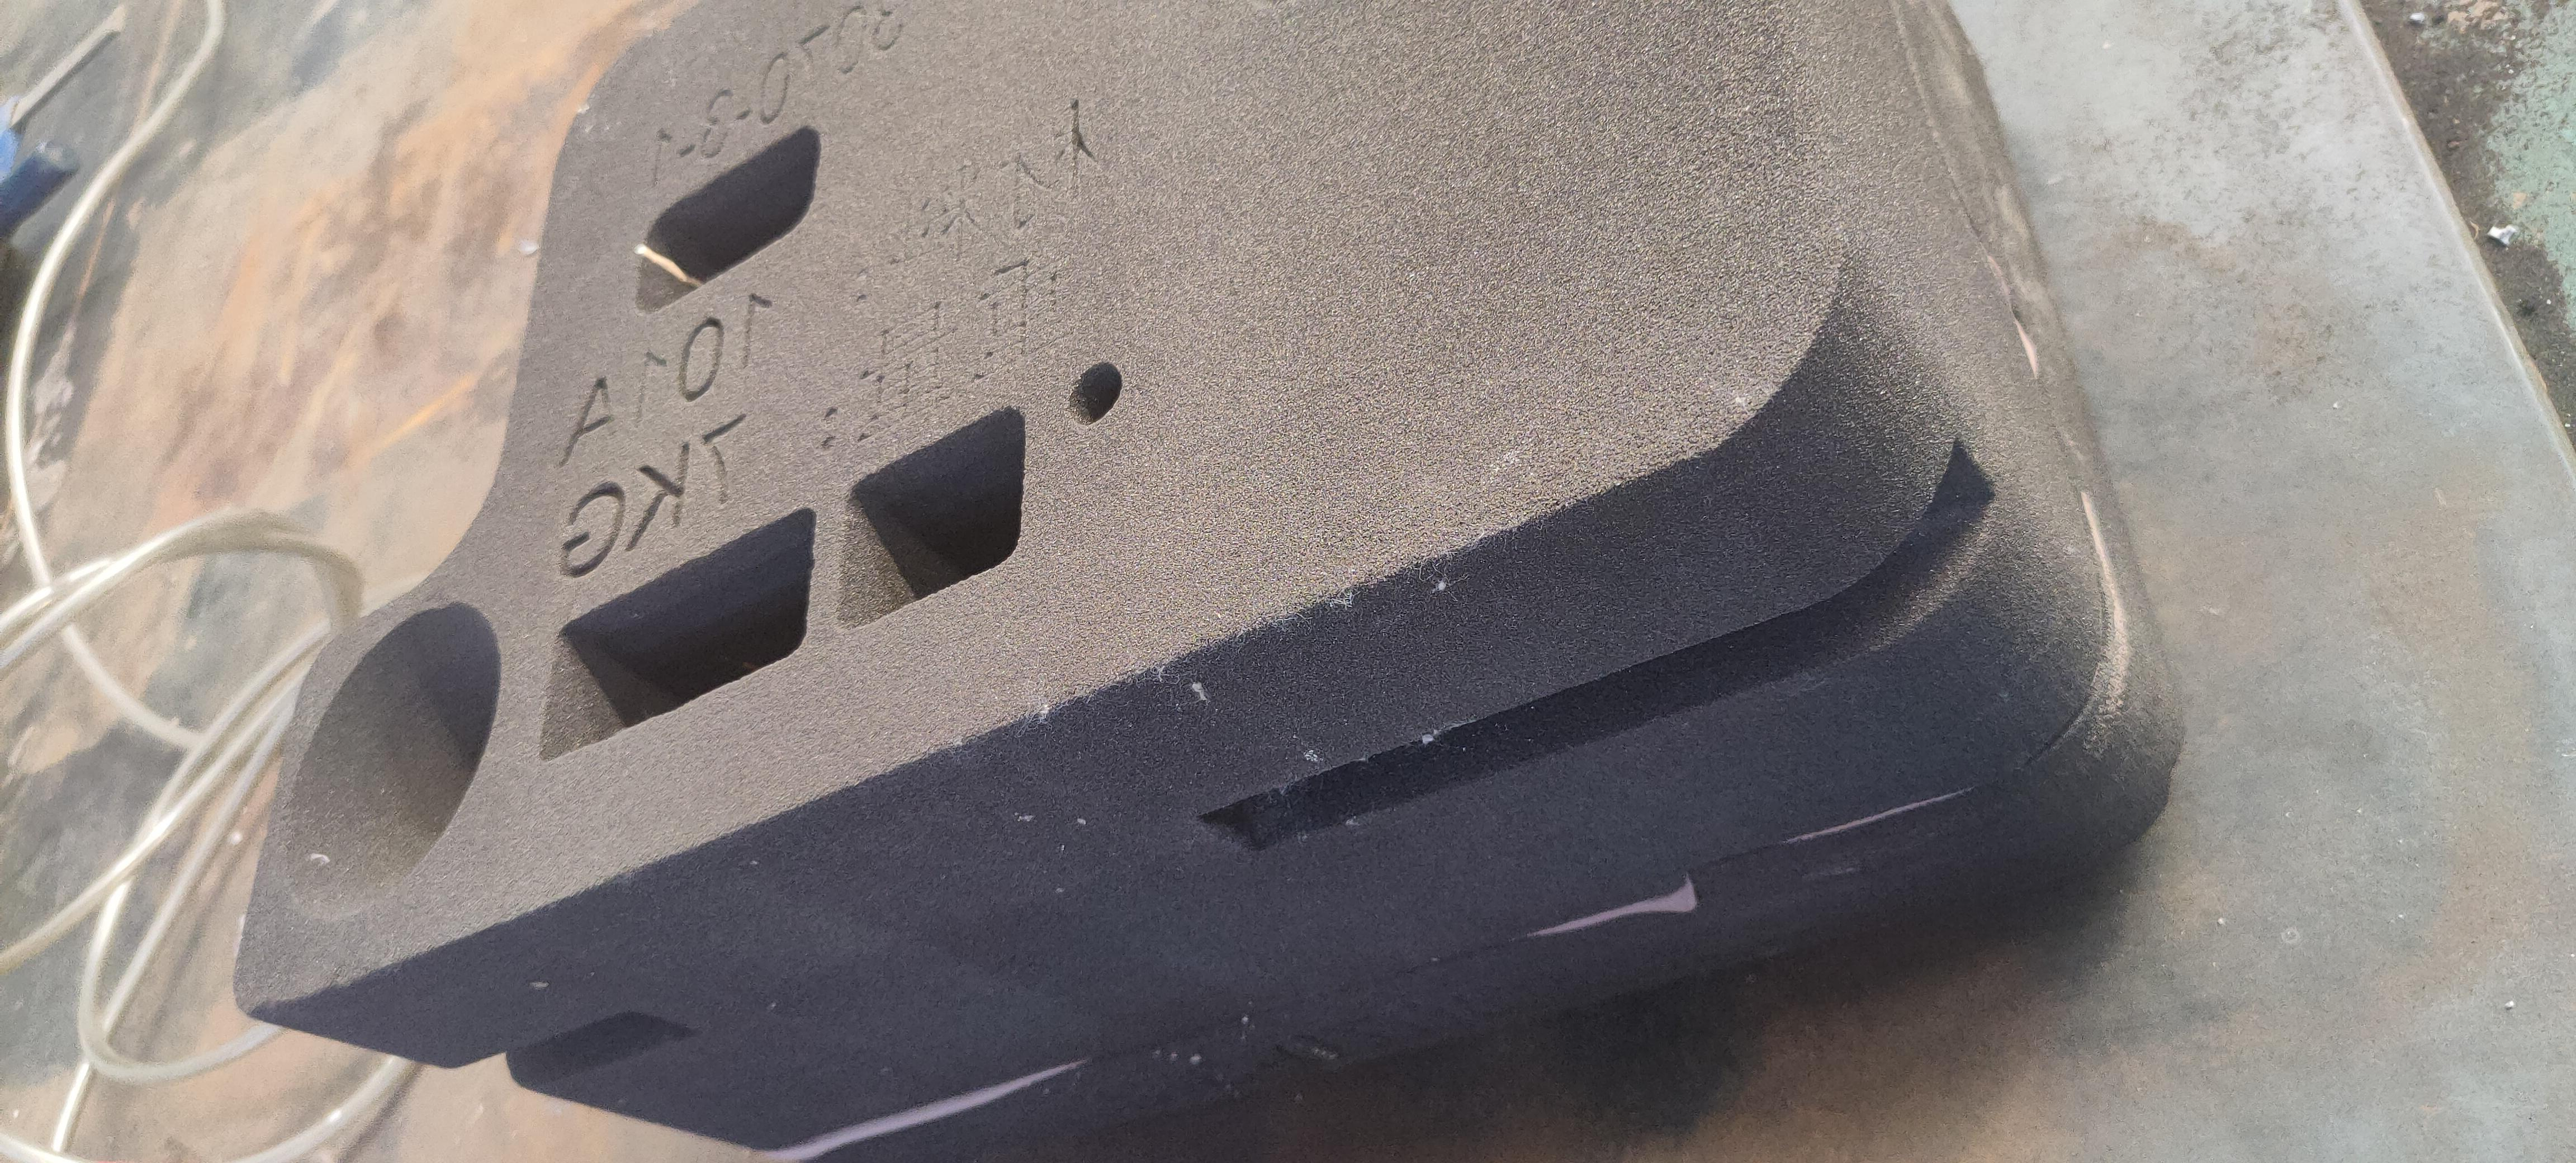pouring hole: (283, 601, 499, 918)
